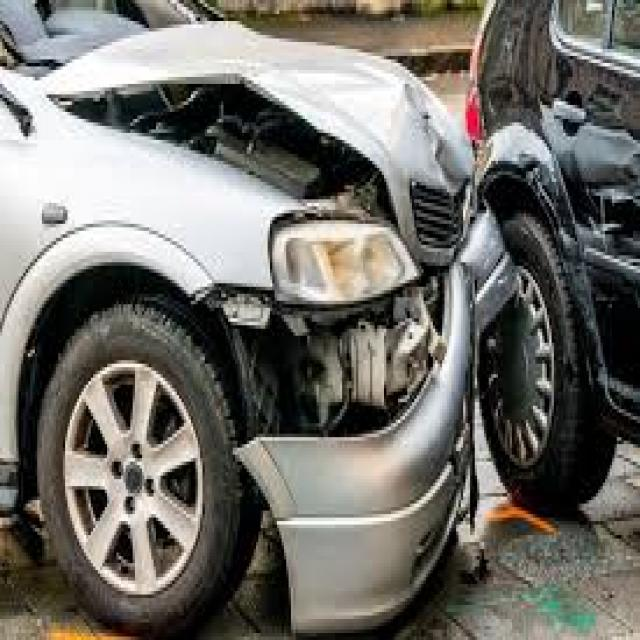accident: (25, 0, 640, 629)
